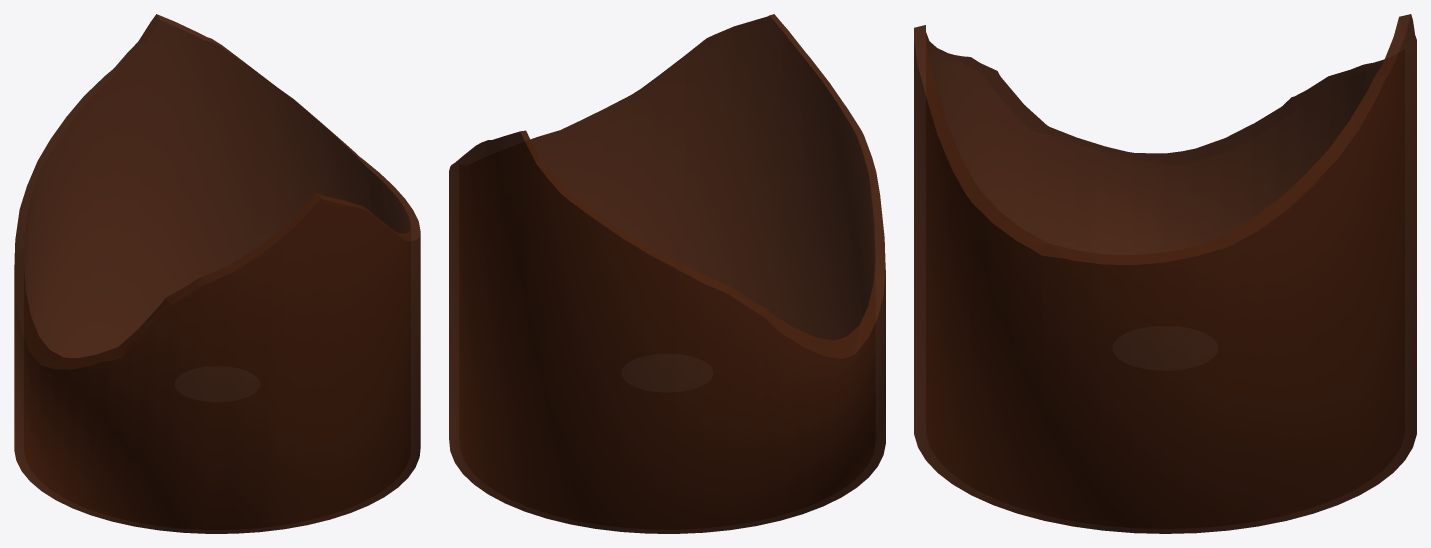
File: GlassBottom.FBX
The picture shows the model from 3 angles, left to right: view 1: azimuth 30°, elevation 25°; view 2: azimuth 150°, elevation 25°; view 3: azimuth 270°, elevation 25°; orthographic projection. The views are drawn at different scales.
Visible parts, largest first — view 1: polySurface9; view 2: polySurface9; view 3: polySurface9.
Part boxes in pixels (x1,y1,x2,y2): polySurface9: (14,14,420,533); polySurface9: (449,14,885,533); polySurface9: (914,14,1416,533).
Size of the model in its own units: 6.9 by 6.59 by 6.88.
